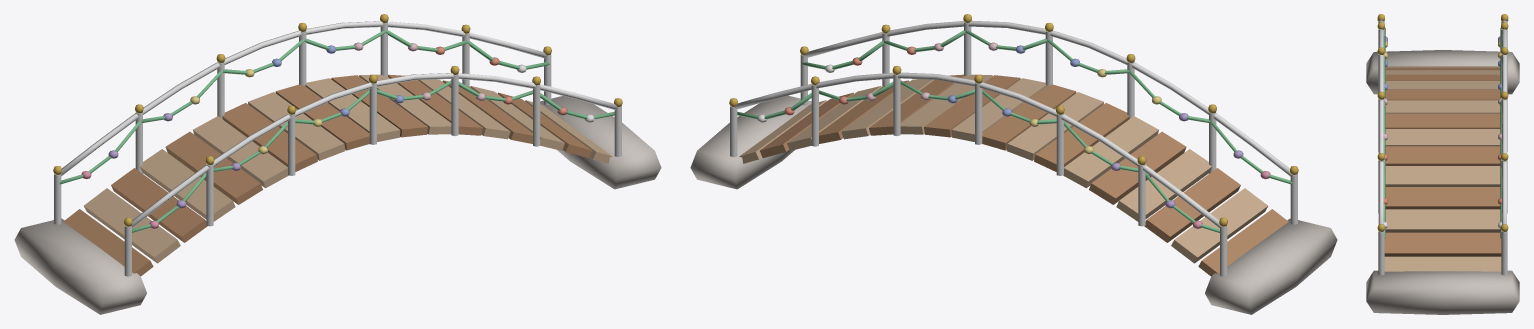
File: fae_footbridge.gltf
3 views of the same model, side by side, from view 1: azimuth 30°, elevation 25°; view 2: azimuth 150°, elevation 25°; view 3: azimuth 270°, elevation 25° (orthographic). The views are drawn at different scales.
Visible parts, largest first — view 1: fae_footbridge; view 2: fae_footbridge; view 3: fae_footbridge.
Part boxes in pixels (left/top/right/bottom): fae_footbridge: left=14, top=14, right=661, bottom=314; fae_footbridge: left=690, top=14, right=1337, bottom=314; fae_footbridge: left=1366, top=14, right=1519, bottom=314.
Size of what is drawn, in the model's own units: 9.3 by 2.67 by 2.49.
